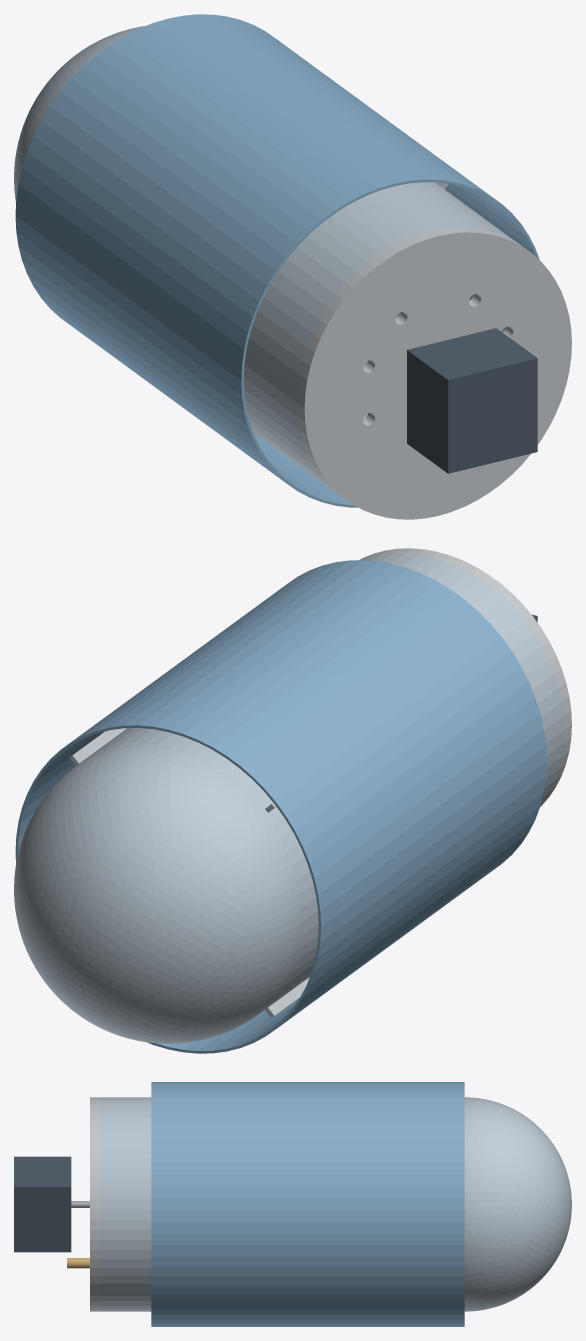
File: bioreactor_15l_solid_1.glb
3 renders of one model, top to bottom at view 1: azimuth 30°, elevation 25°; view 2: azimuth 150°, elevation 25°; view 3: azimuth 270°, elevation 25°, orthographic. The views are drawn at different scales.
Visible parts, largest first — view 1: jacket, head_plate, vessel_glass, motor; view 2: jacket, vessel_glass, head_plate; view 3: jacket, vessel_glass, motor, head_plate.
Part boxes in pixels (bbox=[...]): jacket: bbox=[15, 14, 539, 507]; head_plate: bbox=[297, 227, 571, 519]; vessel_glass: bbox=[14, 26, 518, 491]; motor: bbox=[407, 328, 537, 473]; jacket: bbox=[15, 560, 546, 1053]; vessel_glass: bbox=[14, 553, 564, 1043]; head_plate: bbox=[359, 548, 571, 806]; jacket: bbox=[151, 1082, 464, 1326]; vessel_glass: bbox=[100, 1097, 571, 1311]; motor: bbox=[14, 1156, 71, 1252]; head_plate: bbox=[90, 1097, 99, 1311].
Bounding box in the file's own units: 256 × 256 × 583.
